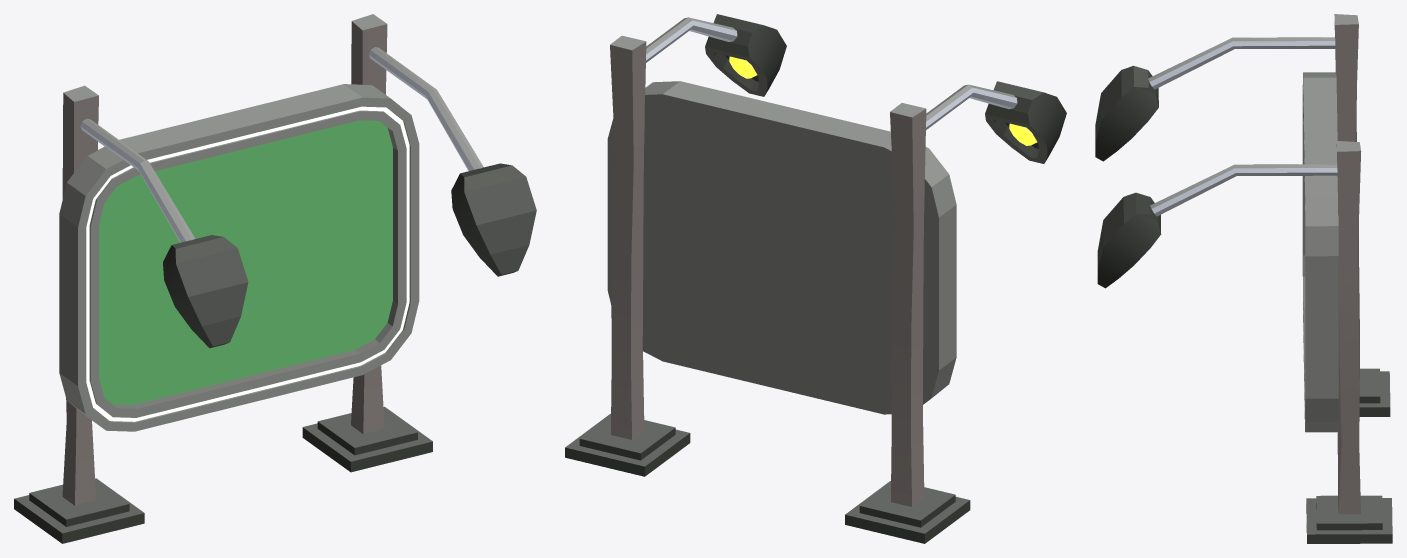
The model's file is SignC.glb.
3 renders of one model, left to right at view 1: azimuth 30°, elevation 25°; view 2: azimuth 150°, elevation 25°; view 3: azimuth 270°, elevation 25°, orthographic. The views are drawn at different scales.
Visible parts, largest first — view 1: Road_Display_Green; view 2: Road_Display_Green; view 3: Road_Display_Green.
Boxes of the visible parts, <box> form: Road_Display_Green: <box>14,14,536,543</box>; Road_Display_Green: <box>565,14,1066,543</box>; Road_Display_Green: <box>1095,14,1392,543</box>.
Size of what is drawn, in the model's own units: 2.31 by 2.5 by 1.77.
Materials: 1 (1 with a texture image).
